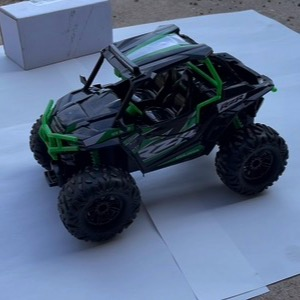polaris: (29, 25, 290, 245)
